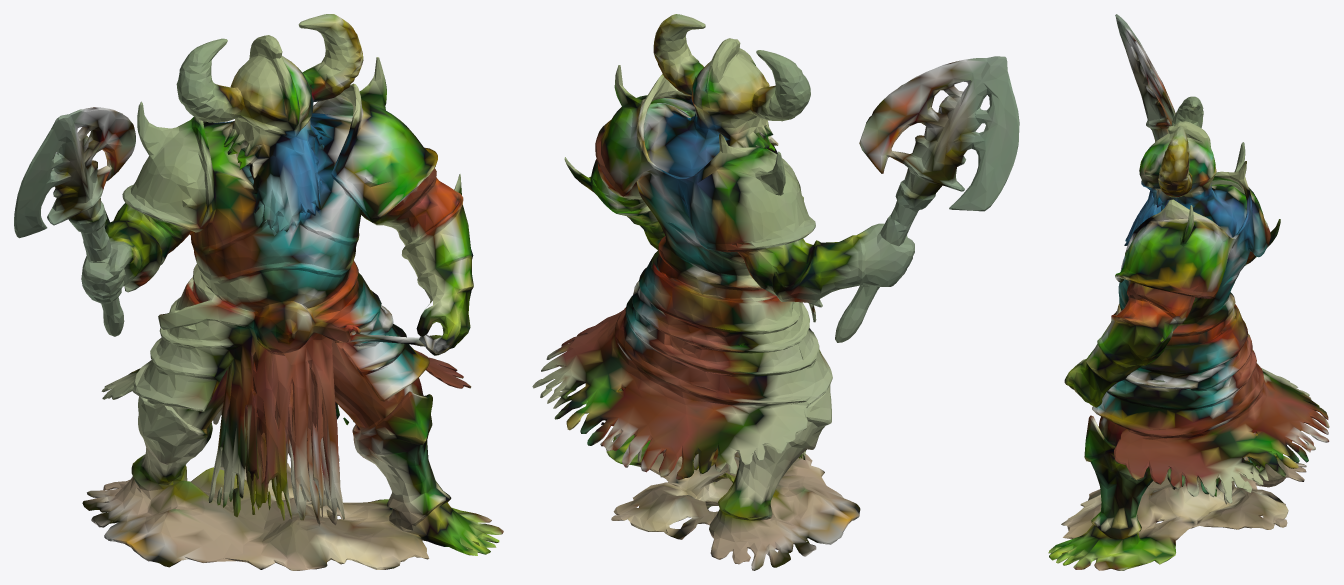
Rendered from minotaur.glb.
3 views of the same model, side by side, from view 1: azimuth 30°, elevation 25°; view 2: azimuth 150°, elevation 25°; view 3: azimuth 270°, elevation 25° (orthographic). The views are drawn at different scales.
Visible parts, largest first — view 1: world; view 2: world; view 3: world.
Boxes of the visible parts, <box> form: world: <box>14,14,503,570</box>; world: <box>532,14,1019,570</box>; world: <box>1048,14,1329,570</box>.
Bounding box in the file's own units: 0.9785 × 1 × 0.6425.
